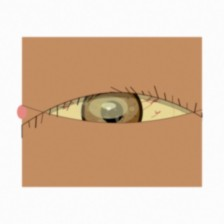corneal_ulcer: (77, 82, 140, 133)
